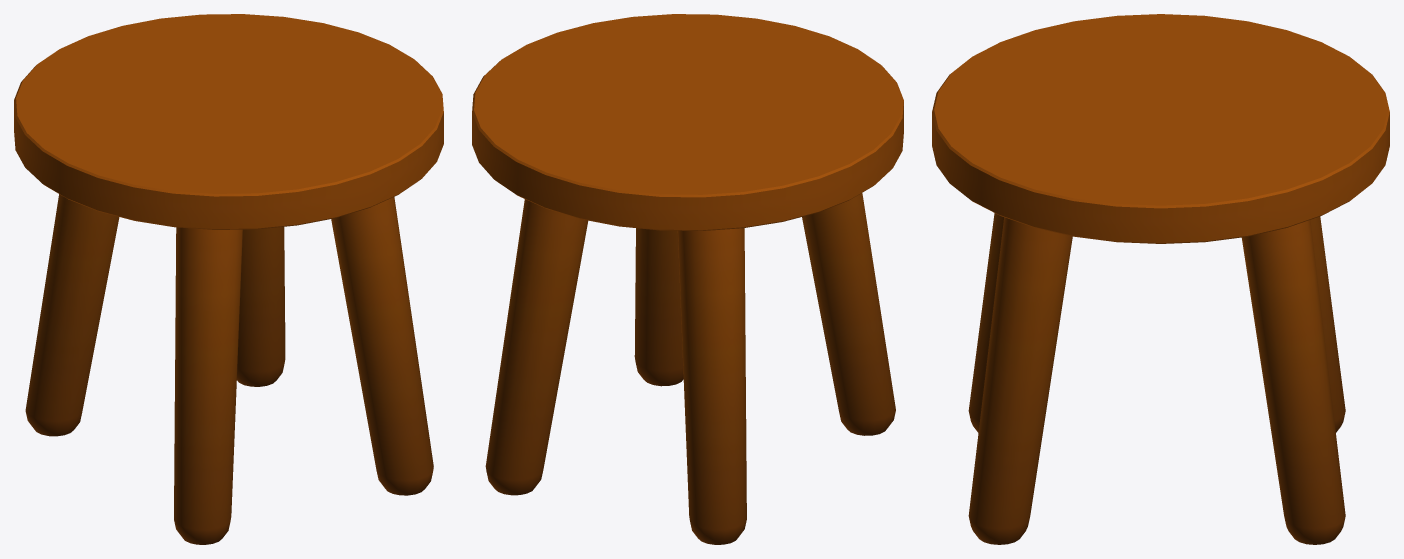
The model's file is Table.fbx.
3 views of the same model, side by side, from view 1: azimuth 30°, elevation 25°; view 2: azimuth 150°, elevation 25°; view 3: azimuth 270°, elevation 25° (orthographic). The views are drawn at different scales.
Parts seen in each view (by area): view 1: Cylinder.001; view 2: Cylinder.001; view 3: Cylinder.001.
Boxes of the visible parts, x1,y1,x2,y2 form: Cylinder.001: (14, 14, 443, 544); Cylinder.001: (472, 14, 903, 544); Cylinder.001: (932, 14, 1389, 544).
Bounding box in the file's own units: 249 × 227 × 249.
